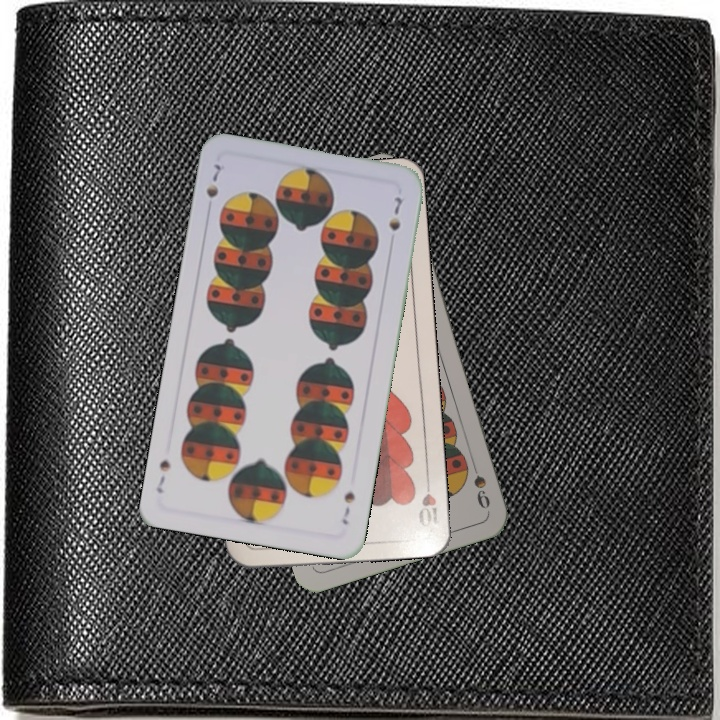H10: (414, 471, 442, 531)
S7: (202, 160, 228, 201), (338, 487, 358, 527)
S9: (466, 454, 493, 512)
